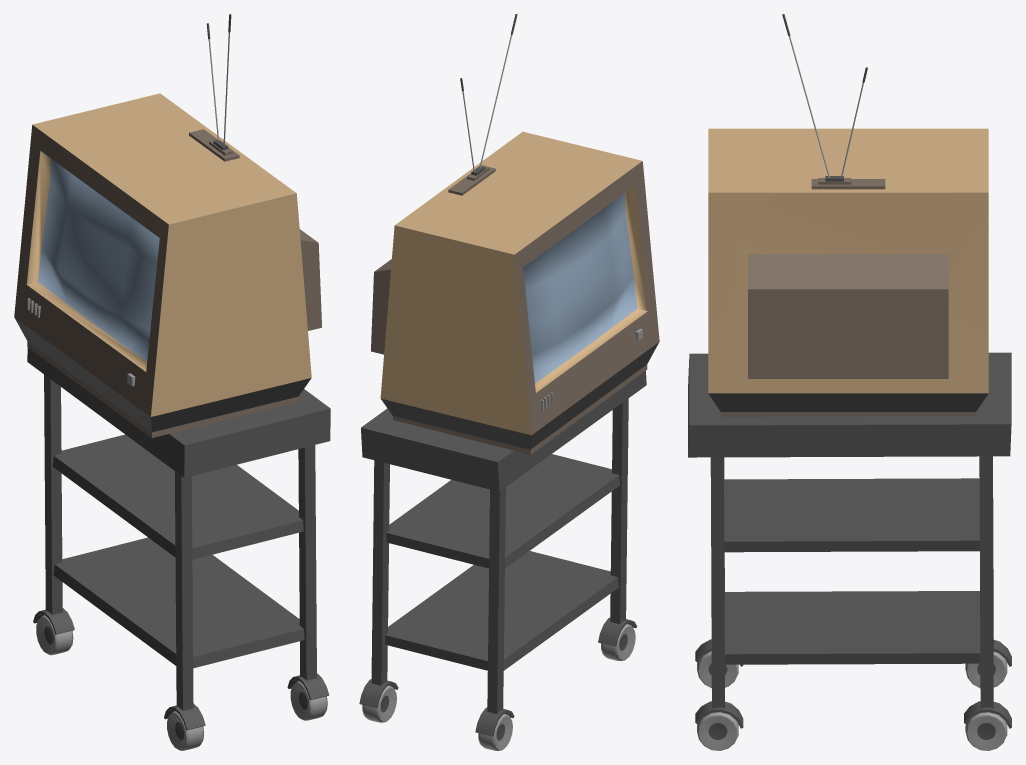
The picture shows the model from 3 angles, left to right: view 1: azimuth 30°, elevation 25°; view 2: azimuth 150°, elevation 25°; view 3: azimuth 270°, elevation 25°; orthographic projection. The views are drawn at different scales.
Parts seen in each view (by area): view 1: TV, tableRoues; view 2: TV, tableRoues; view 3: TV, tableRoues.
Part boxes in pixels (left/top/right/bottom): TV: left=14, top=14, right=321, bottom=437; tableRoues: left=27, top=347, right=330, bottom=750; TV: left=371, top=14, right=659, bottom=454; tableRoues: left=359, top=371, right=646, bottom=750; TV: left=708, top=14, right=988, bottom=416; tableRoues: left=688, top=352, right=1011, bottom=750.
Size of the model in its own units: 242 by 839 by 347.
